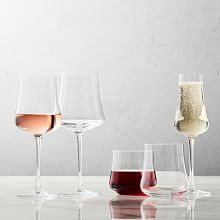Nonrec_Glass: (12, 68, 65, 202), (54, 60, 103, 199), (95, 136, 195, 204), (166, 67, 215, 204)
